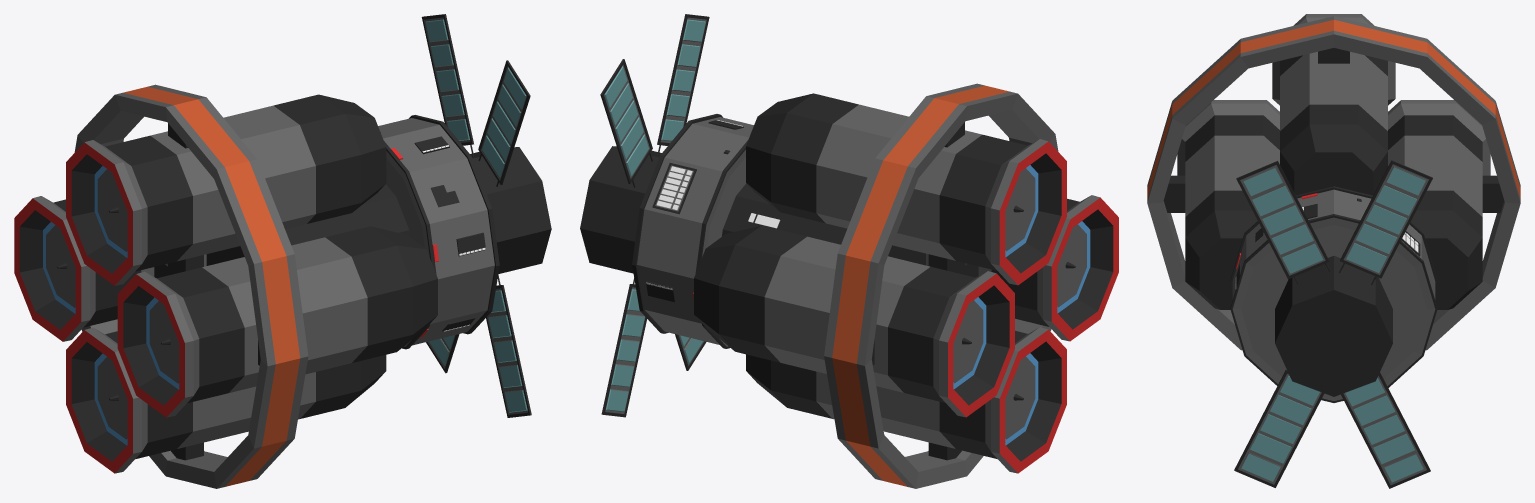
The model's file is cargoship 1.fbx.
3 renders of one model, left to right at view 1: azimuth 30°, elevation 25°; view 2: azimuth 150°, elevation 25°; view 3: azimuth 270°, elevation 25°, orthographic. The views are drawn at different scales.
Parts seen in each view (by area): view 1: Circle.001; view 2: Circle.001; view 3: Circle.001.
Part boxes in pixels (x1=…): Circle.001: x1=14, y1=14, x2=551, y2=488; Circle.001: x1=580, y1=14, x2=1118, y2=488; Circle.001: x1=1147, y1=14, x2=1520, y2=488.
Size of the model in its own units: 989 by 831 by 831.
